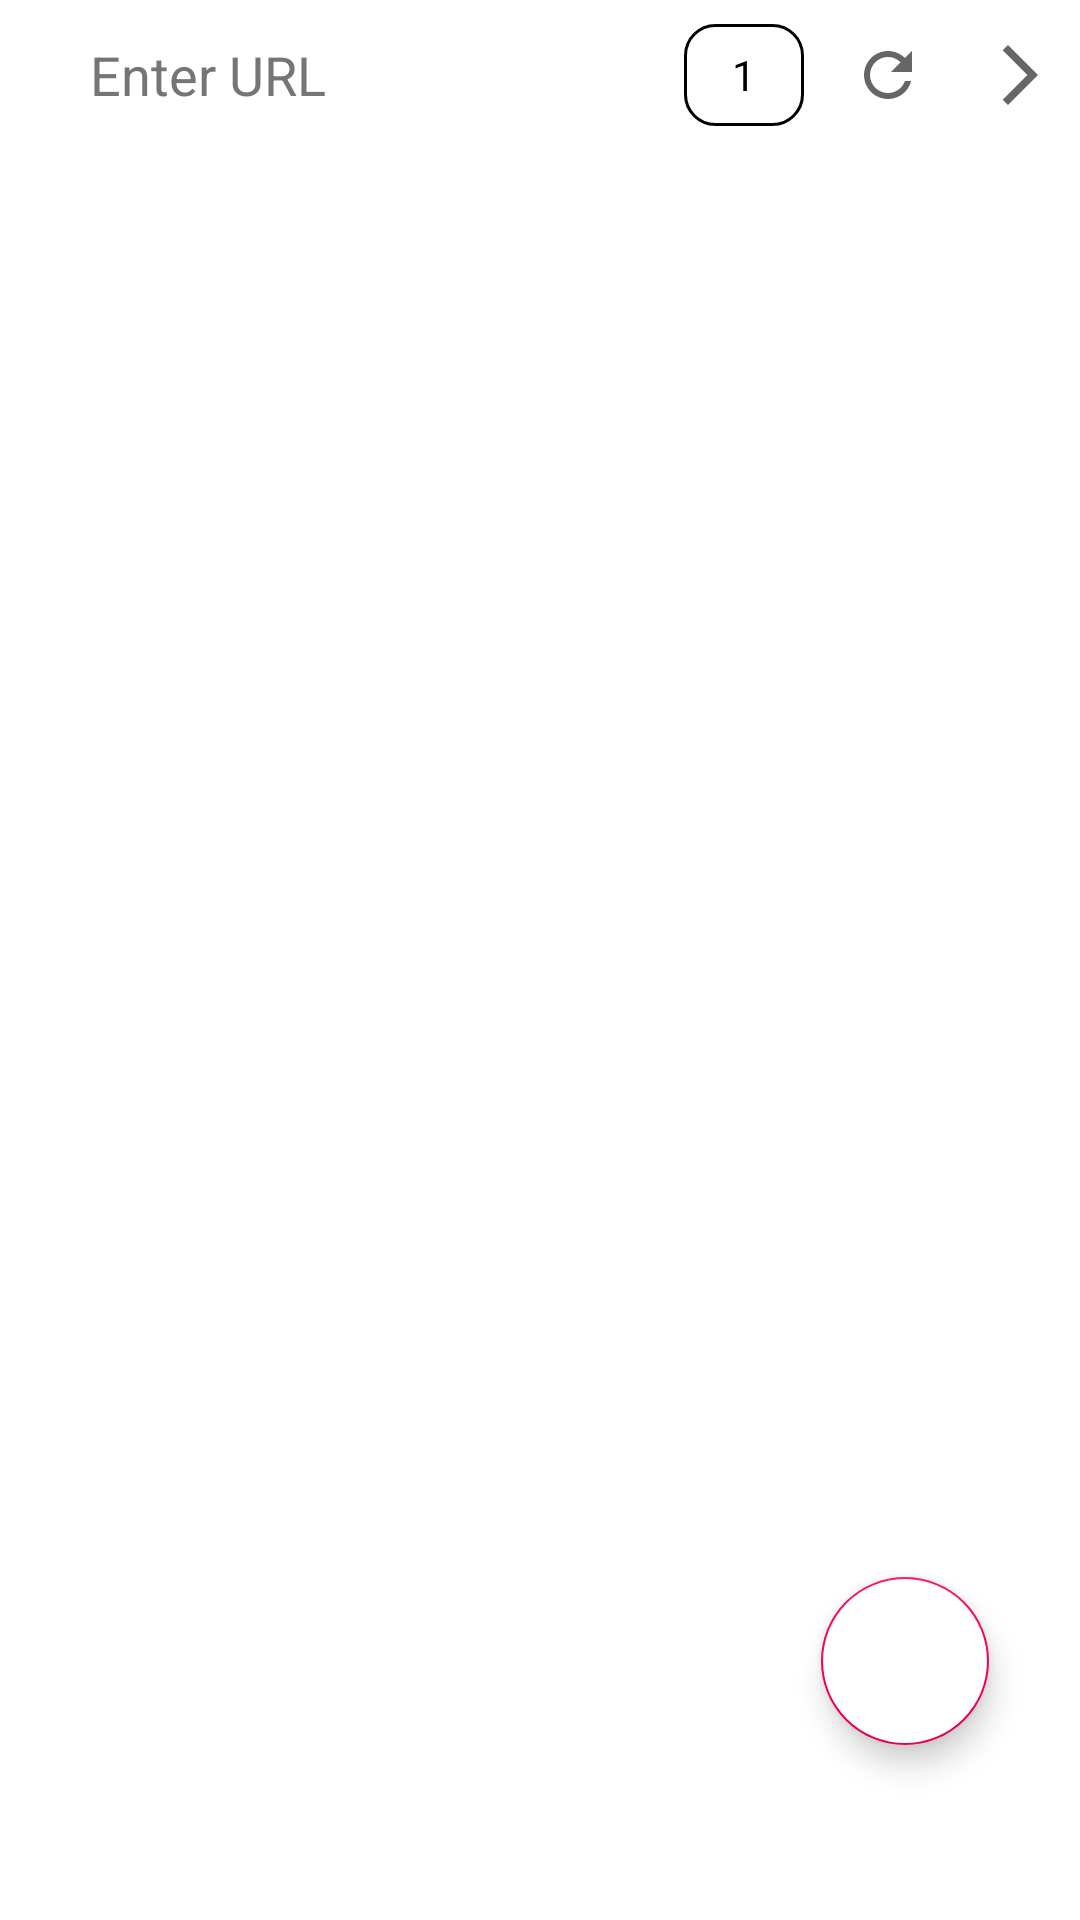

Point at icon controls on the screen. Image size 1080x1920, points as point (x, y).
Go Button: point (1020, 75)
Refresh: point (888, 75)
